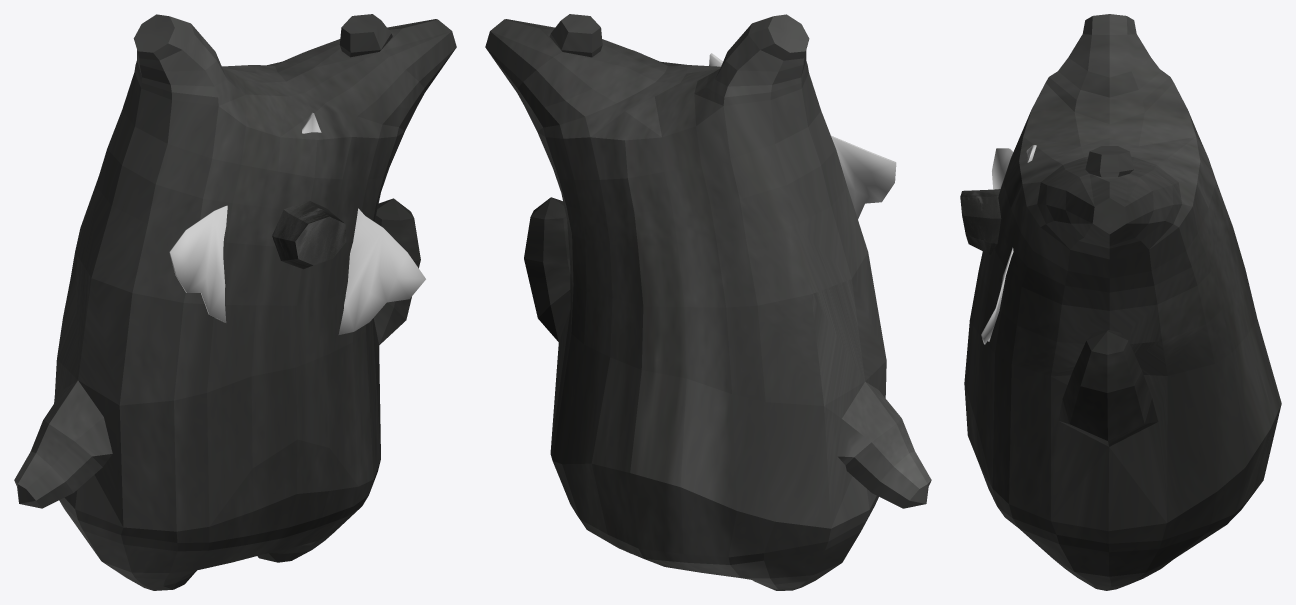
The model's file is frame_0061.obj.
The picture shows the model from 3 angles, left to right: view 1: azimuth 30°, elevation 25°; view 2: azimuth 150°, elevation 25°; view 3: azimuth 270°, elevation 25°; orthographic projection. The views are drawn at different scales.
Visible parts, largest first — view 1: korok, leaf, nose; view 2: korok, leaf; view 3: korok, nose, leaf.
Part boxes in pixels (x1,y1,x2,y2): korok: (14,14,456,590); leaf: (169,112,425,334); nose: (272,200,346,269); korok: (485,14,931,590); leaf: (709,53,896,218); korok: (964,14,1281,590); nose: (960,189,1001,254); leaf: (981,145,1036,344).
Bounding box in the file's own units: 1.71 × 2.13 × 1.18.
